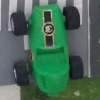carro: (10, 5, 81, 98)
